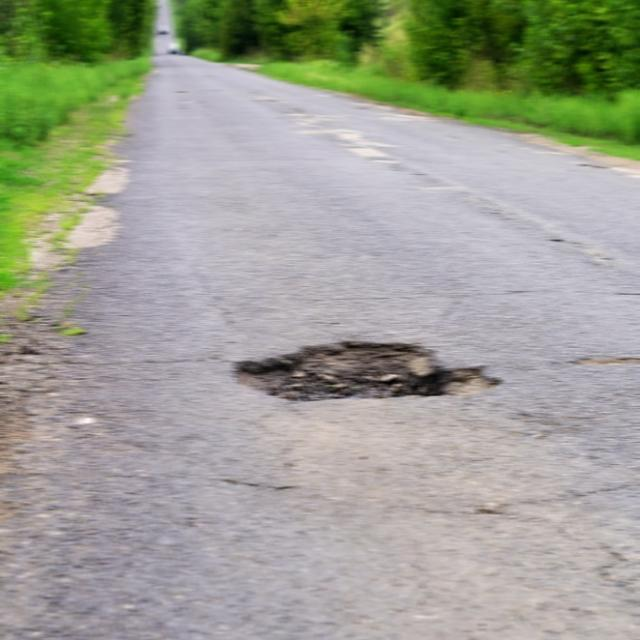Pothole: (220, 313, 505, 411)
